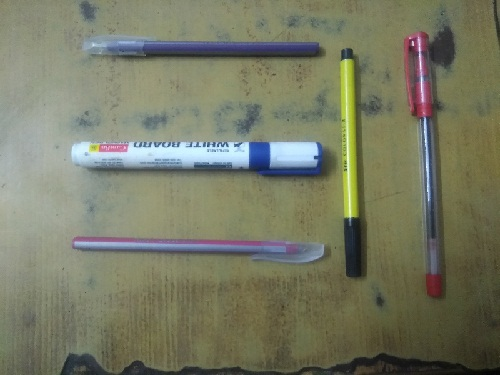pen: (398, 29, 447, 303), (65, 138, 329, 181), (67, 230, 329, 268), (335, 47, 370, 281), (74, 30, 329, 61)
